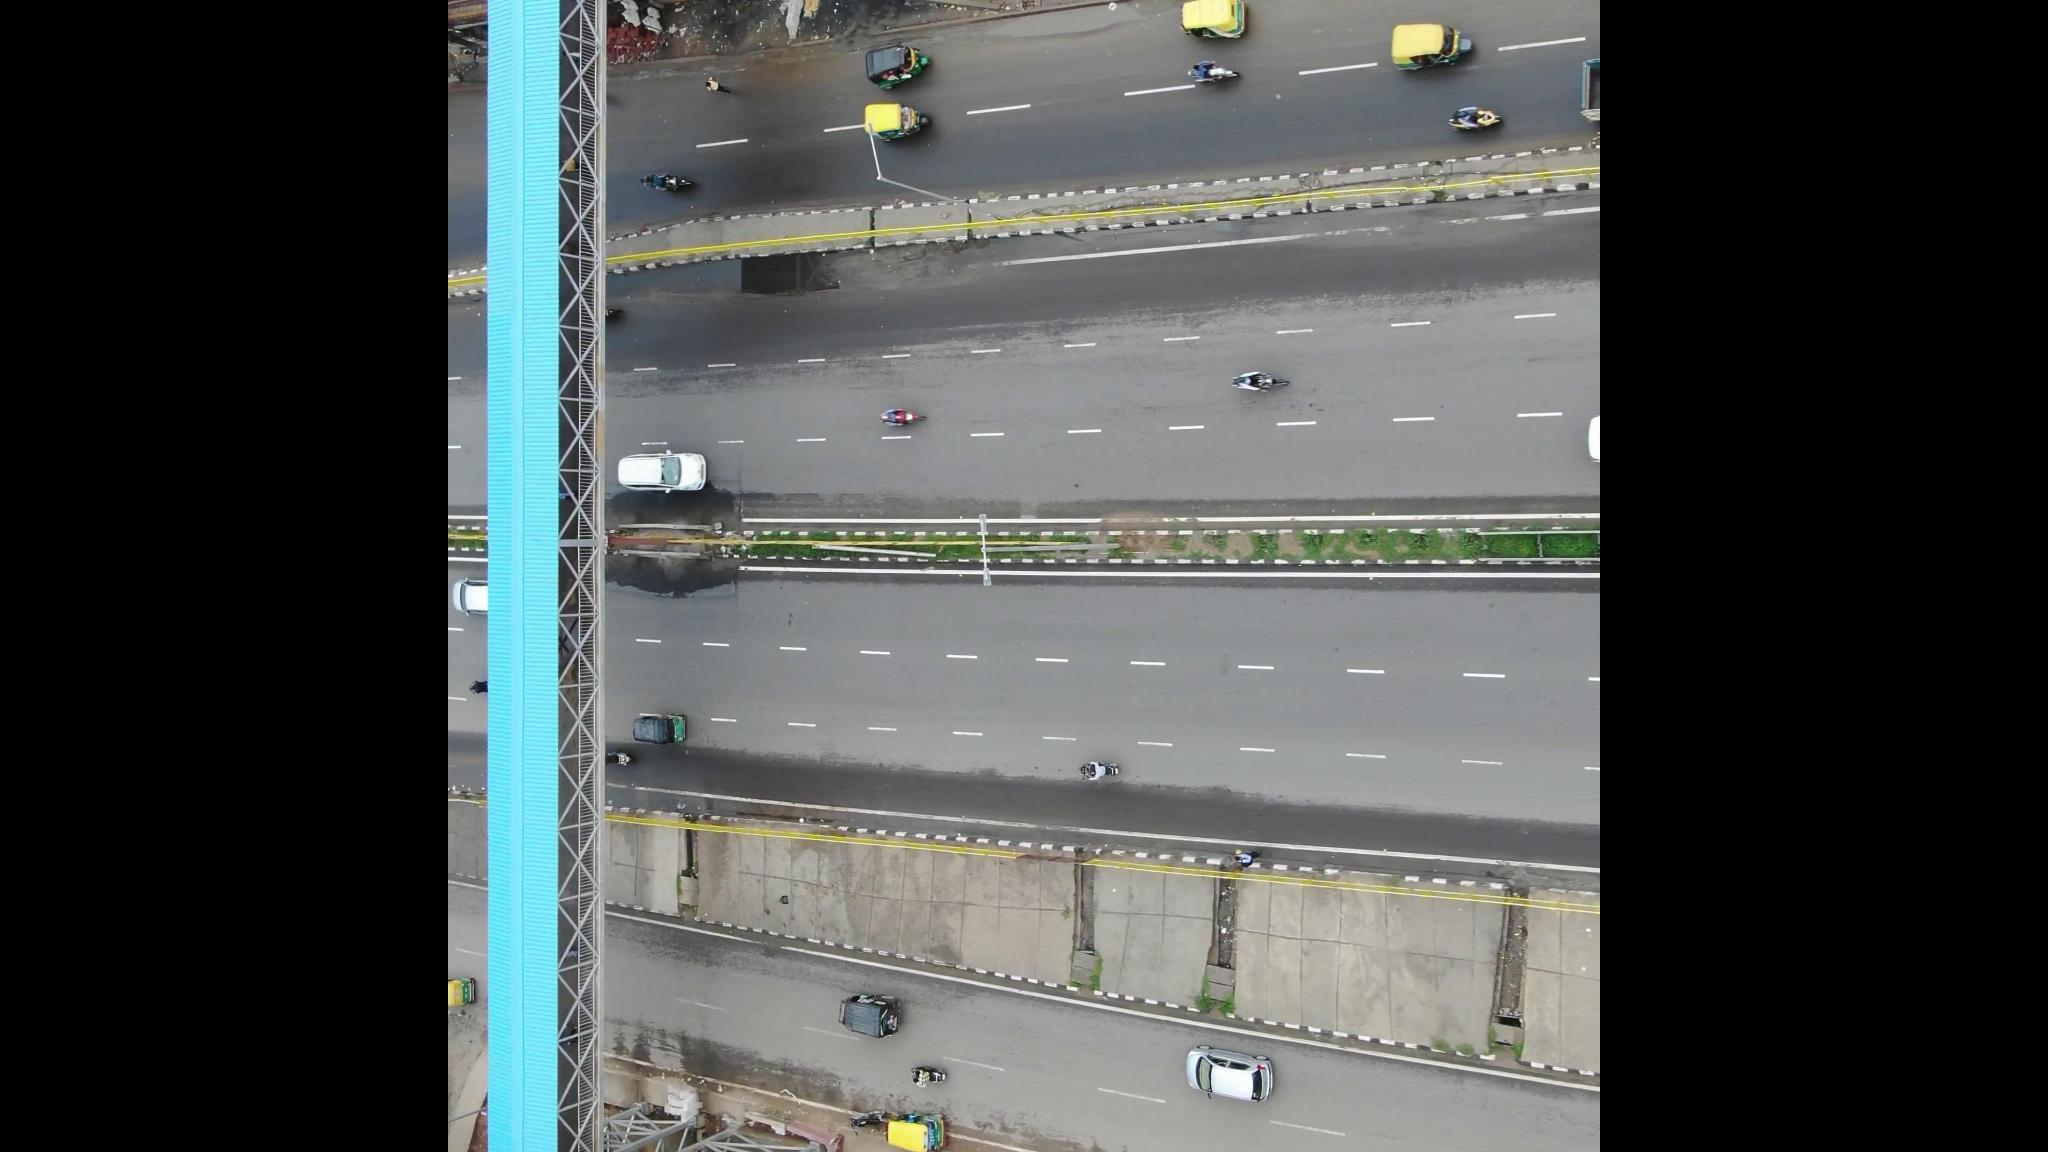Waterlogging: (634, 236, 948, 312), (975, 1, 1152, 56)
